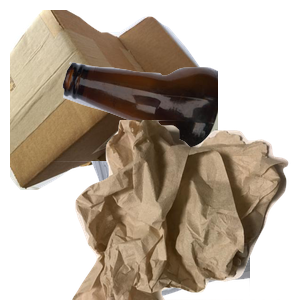cardboard: (10, 10, 206, 190)
glass: (60, 59, 300, 217)
plastic: (23, 161, 263, 300)
trash: (70, 120, 300, 300)
